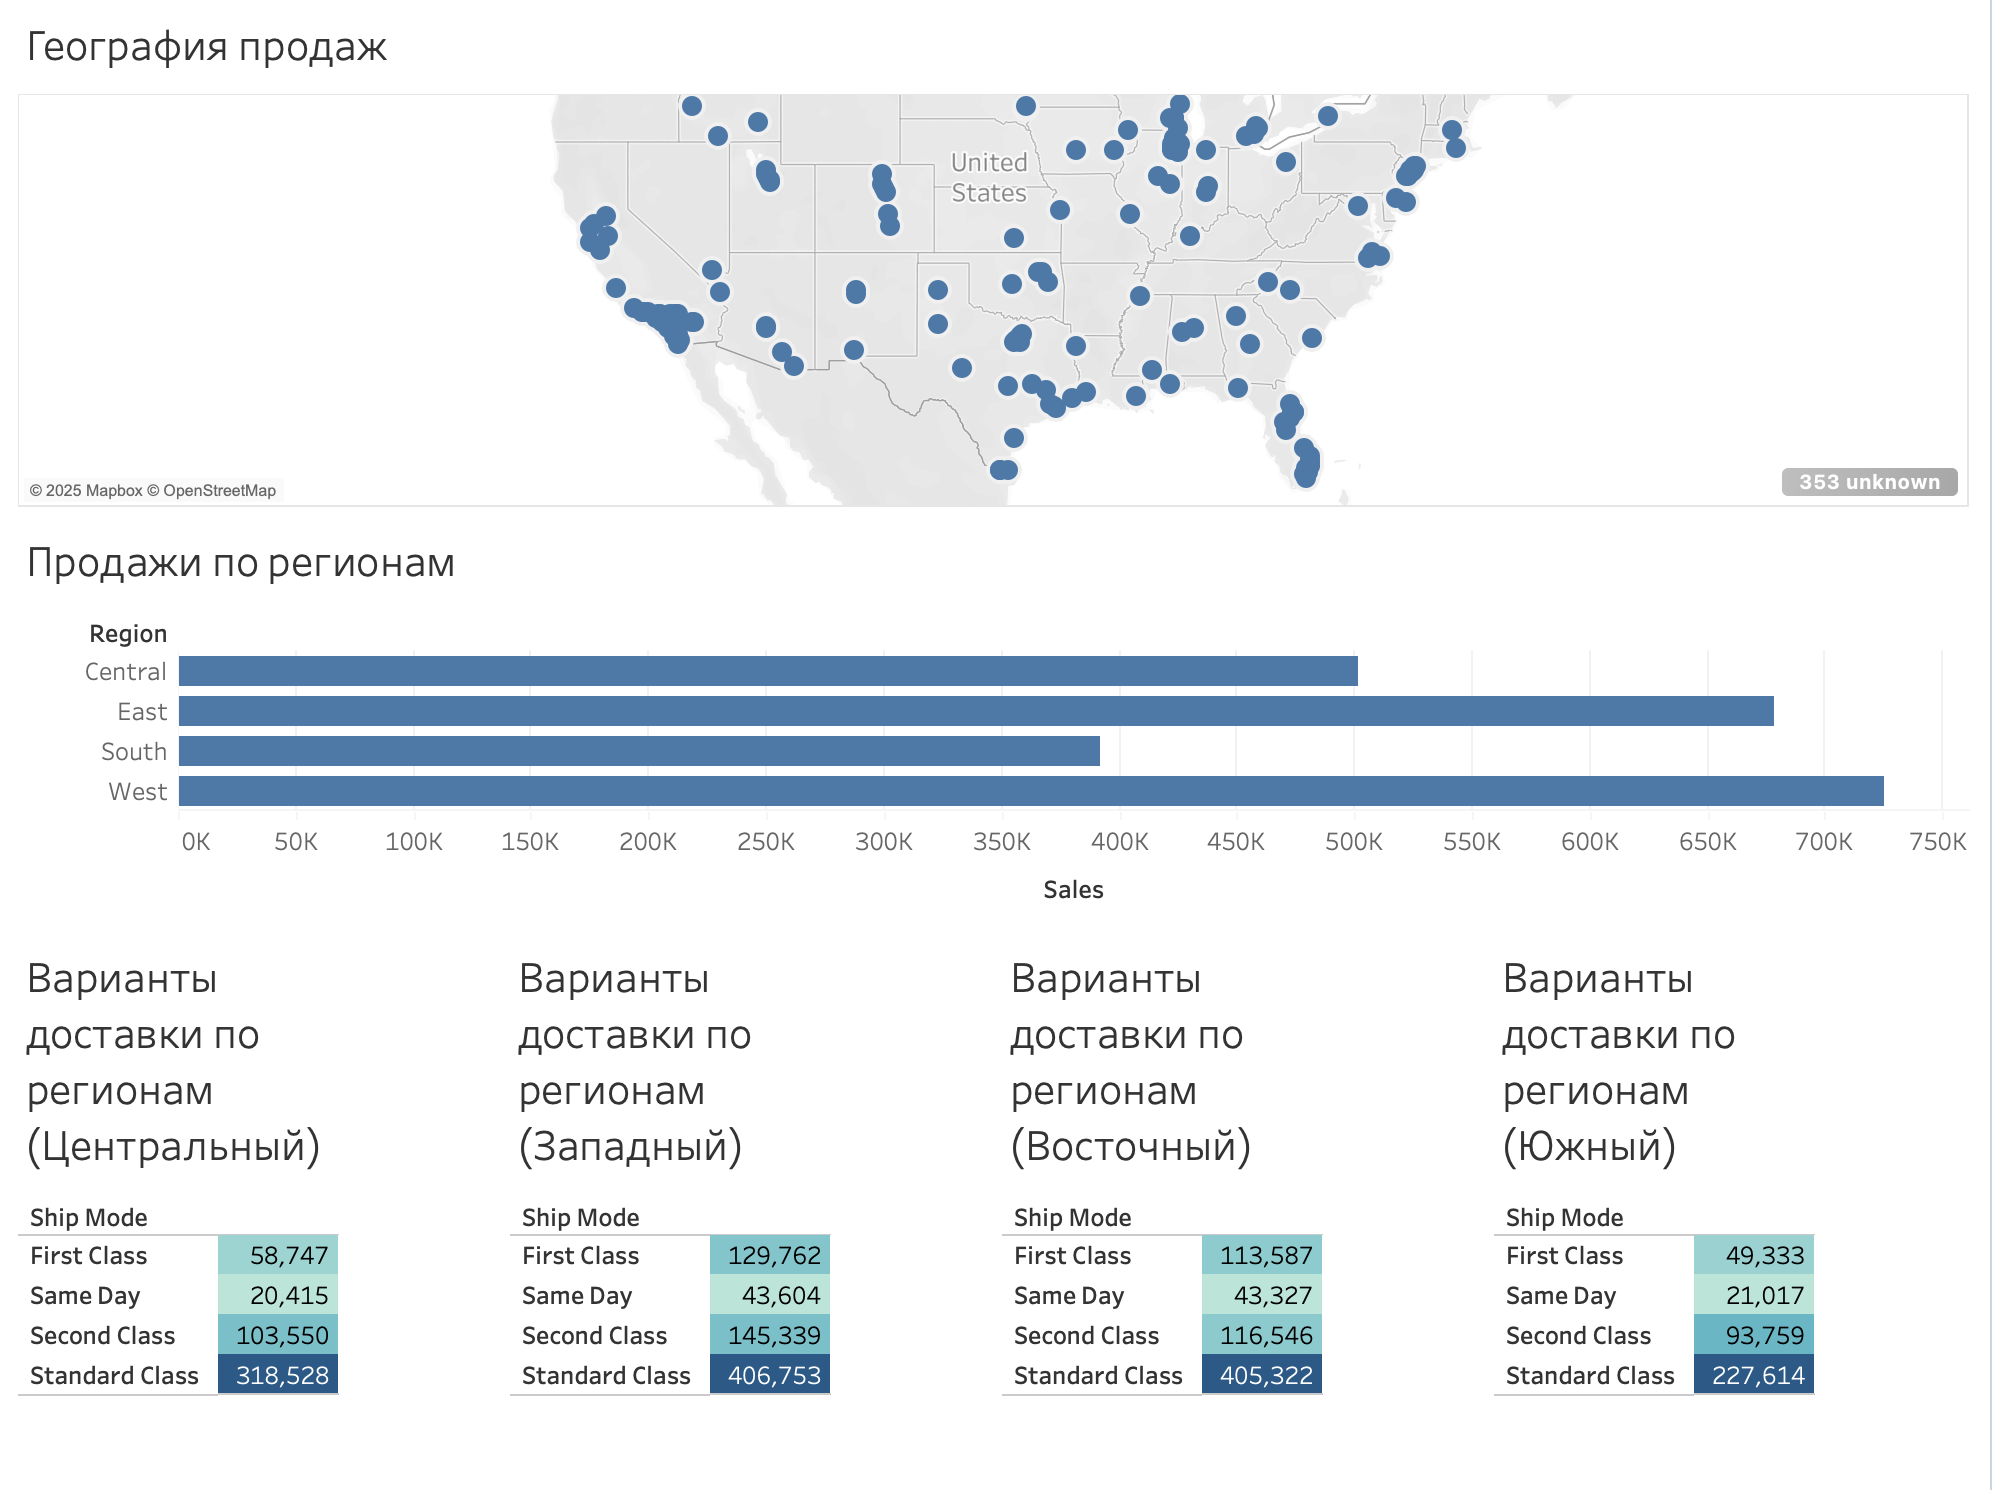

Layout of this report page (visuals, bound fields, positions):
{"tool":"tableau","page":{"name":"Dashboard 1","canvas":[1000,800],"ordinal":0},"visuals":[{"type":"worksheet","title":"Sheet 1","mark":"Automatic","box":[8,8,984,258]},{"type":"worksheet","title":"Sheet 2","mark":"Automatic","rows":["Region"],"cols":["Sales"],"box":[8,266,984,208]},{"type":"worksheet","title":"Sheet 3","mark":"Square","rows":["Ship Mode"],"box":[8,474,246,318]},{"type":"worksheet","title":"Sheet 3 (4)","mark":"Square","rows":["Ship Mode"],"box":[254,474,246,318]},{"type":"worksheet","title":"Sheet 3 (2)","mark":"Square","rows":["Ship Mode"],"box":[500,474,246,318]},{"type":"worksheet","title":"Sheet 3 (3)","mark":"Square","rows":["Ship Mode"],"box":[746,474,246,318]}]}

Visuals, with their boxes on the page's 1000x800 design canvas (x1, y1, x2, y2). These are canvas units, not pixel positions in the 1992x1490 screenshot, which may show the page scaled, cropped or inside an application window:
"Sheet 1" worksheet: (8, 8, 992, 266)
"Sheet 2" worksheet: (8, 266, 992, 474)
"Sheet 3" worksheet (Square marks): (8, 474, 254, 792)
"Sheet 3 (4)" worksheet (Square marks): (254, 474, 500, 792)
"Sheet 3 (2)" worksheet (Square marks): (500, 474, 746, 792)
"Sheet 3 (3)" worksheet (Square marks): (746, 474, 992, 792)
